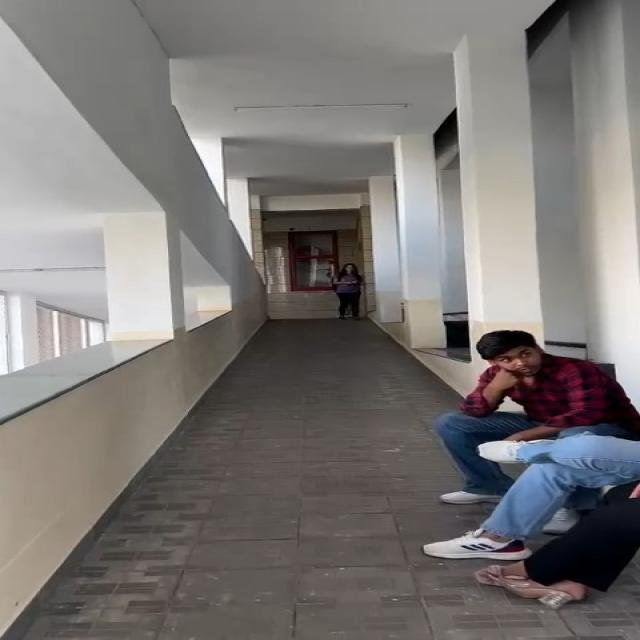floor: (200, 332, 450, 640)
moving_object: (464, 337, 640, 607), (334, 262, 368, 322)
wall: (0, 0, 261, 452), (275, 6, 526, 187)
